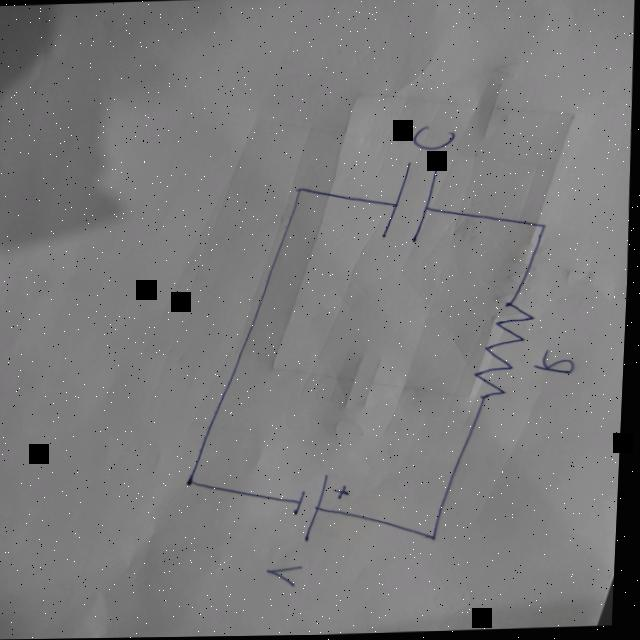capacitor: (379, 162, 442, 245)
junction: (186, 476, 206, 492), (292, 184, 309, 199), (538, 222, 552, 234), (432, 533, 445, 543)
resistor: (473, 302, 541, 402)
source: (295, 474, 356, 544)
text: (411, 125, 457, 154), (536, 349, 579, 377), (269, 566, 310, 589)
